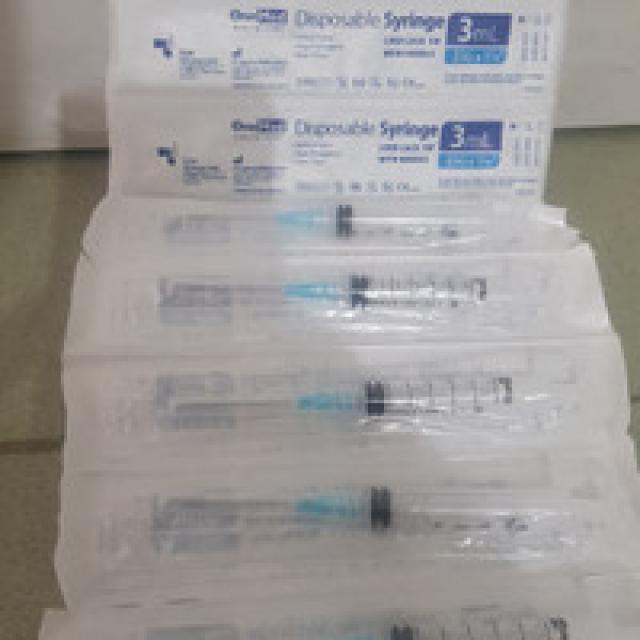B3: (57, 448, 640, 560), (54, 342, 637, 442), (58, 253, 624, 339), (58, 192, 608, 262)
